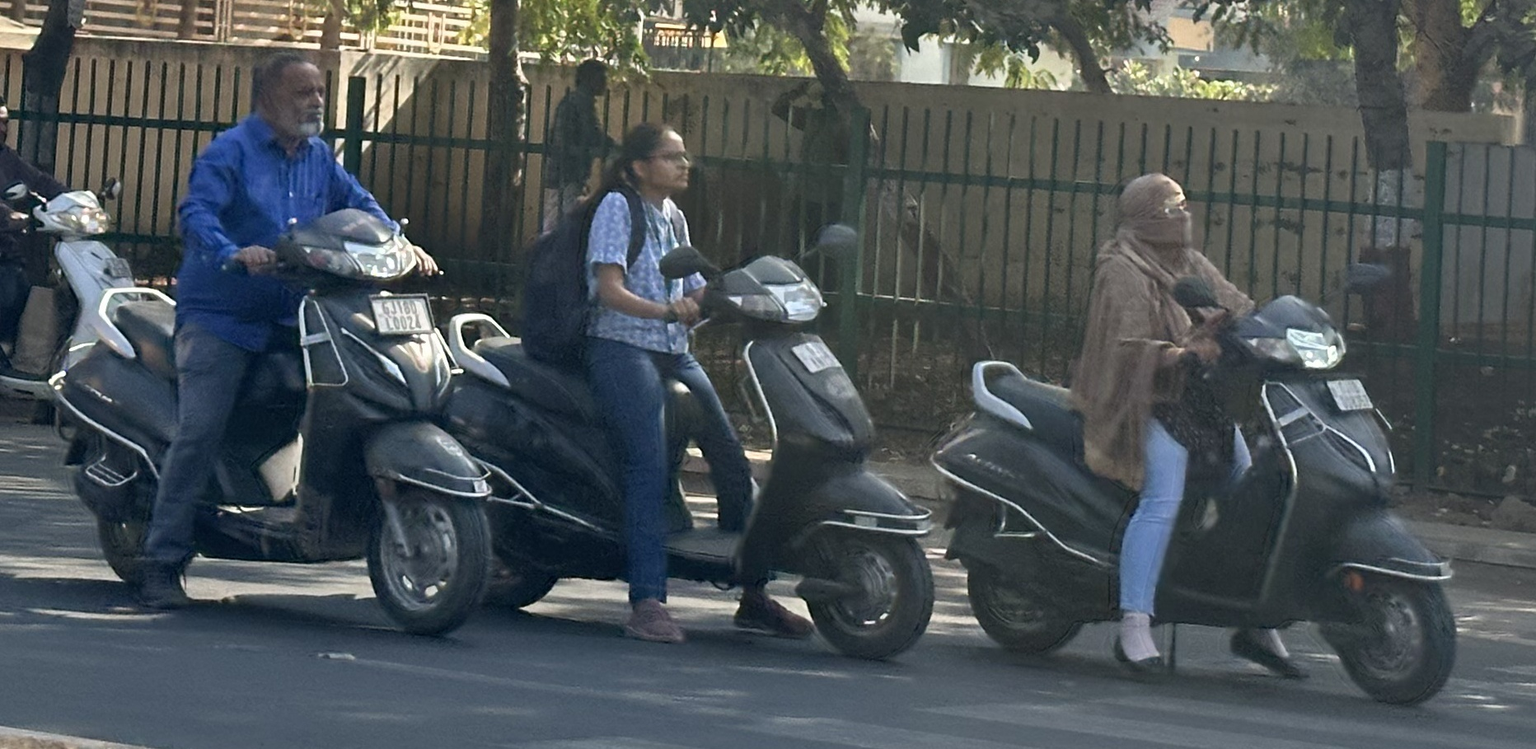BikeWithRider: (920, 160, 1473, 713), (416, 111, 951, 667), (36, 40, 512, 644)
NoHelmet: (241, 44, 340, 145), (1105, 163, 1208, 255), (612, 115, 704, 207)
